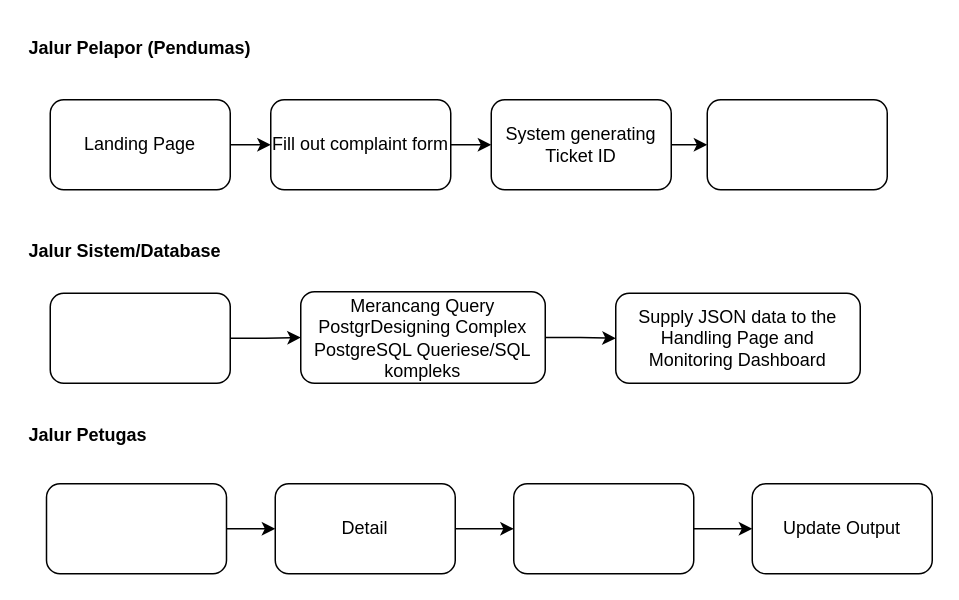
The diagram is 959 pixels wide and 600 high, and some of its shapes have lost their labels. The shapes that lost their labels are listed below. From the top down, each one's box as (x1, y1, x2, y2) in pixels, then its label:
(706, 98, 887, 190): Finish
(49, 292, 230, 383): Raw Data
(45, 482, 226, 574): Log in to the Domain Management
(512, 482, 694, 574): Complaint Process (Change Status)
